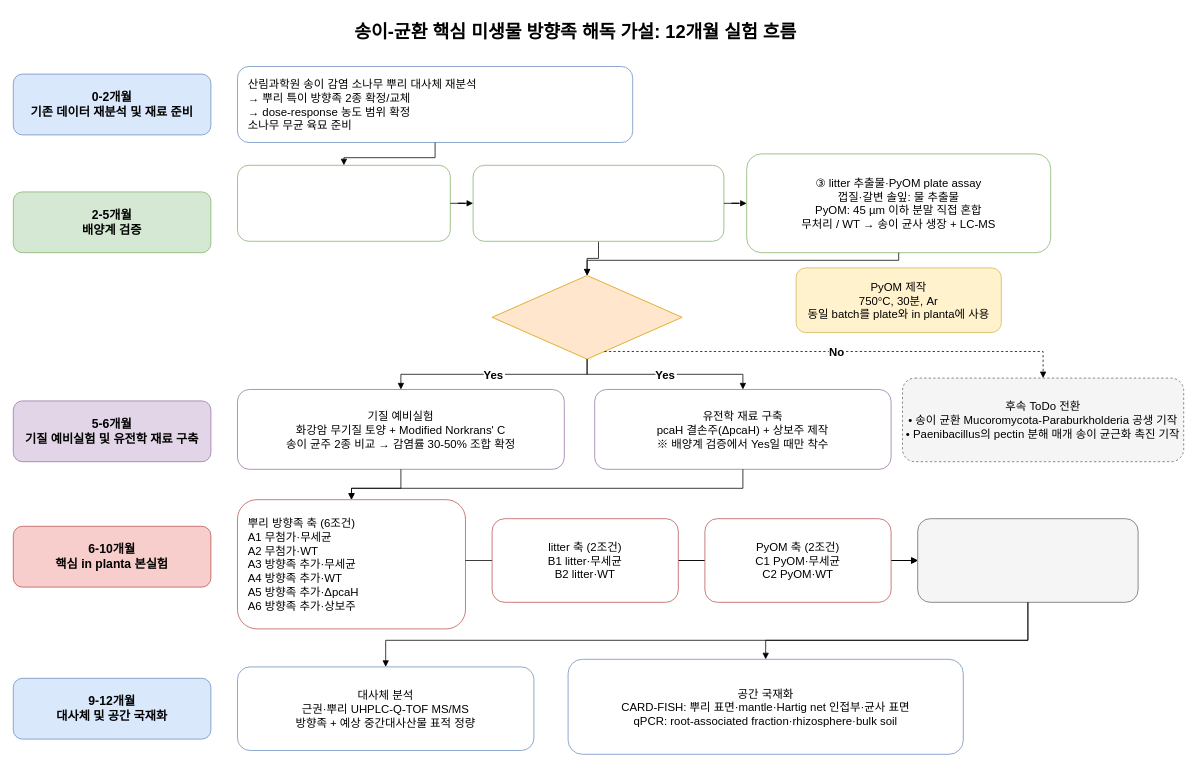
The diagram is 1197 pixels wide and 768 high, and some of its shapes have lost their labels. The shapes that lost their labels are listed below. From the top down, each one's centre as x and y in pixels, then its label:
(343,203): ① 방향족 6종 dose-response 6종 × 5농도 + 매칭 대조 → 송이 균사 억제 농도 확정
(598,203): ② Cell-free filtrate assay 무세균 동일 배지 / WT filtrate / 방향족 재첨가 → 송이 균사 생장 + LC-MS
(586,317): 방향족 감소와 송이 균사 생장 회복이 연동되는가?
(1027,560): 공통 평가 균근 감염률 · Hartig net · mantle 소나무 생장 · qPCR 정착량
